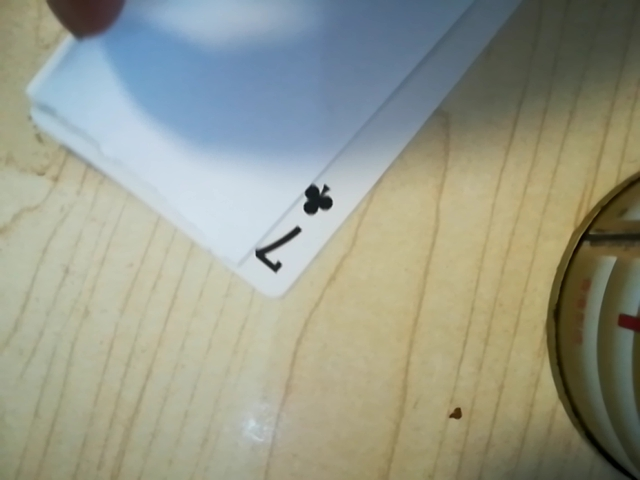mh 7: (242, 170, 346, 282)
